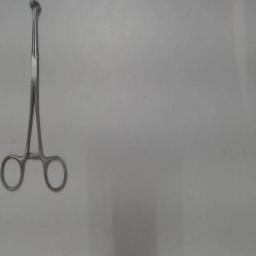Babcock Tissue Forceps: (0, 0, 70, 194)
